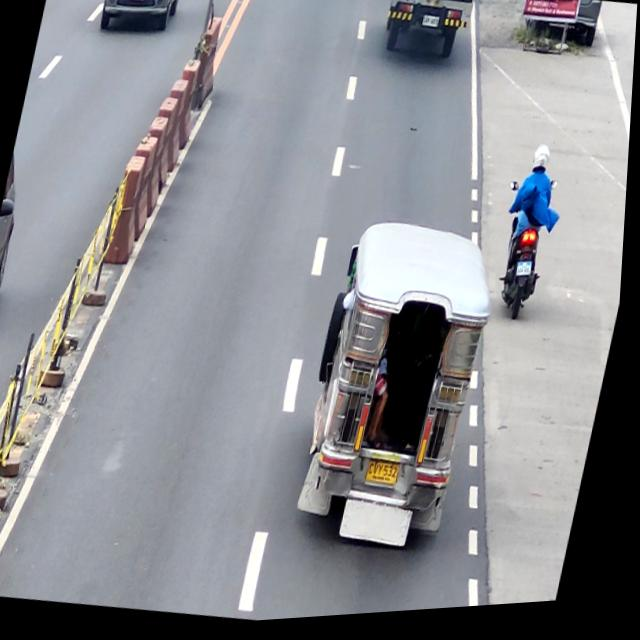Jeep: (289, 211, 514, 570)
License-Plate: (372, 464, 407, 492), (517, 266, 537, 286), (422, 18, 441, 33)
Motorcycle: (486, 180, 565, 332)
Truck: (376, 0, 479, 71)
